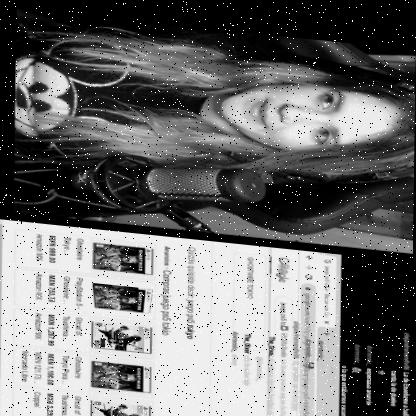streamer: (13, 2, 416, 244)
